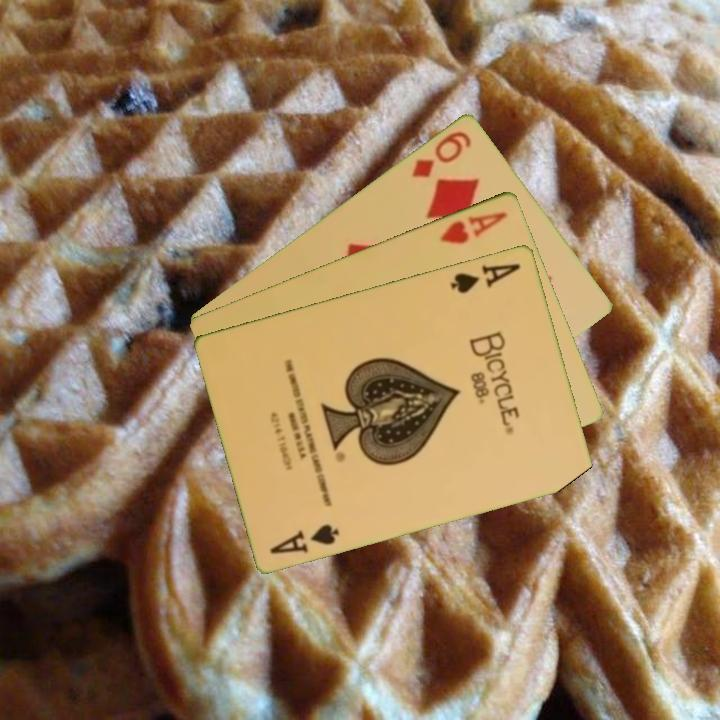6d: (408, 126, 475, 181)
Ah: (436, 207, 511, 247)
As: (447, 259, 524, 296), (266, 520, 343, 557)
